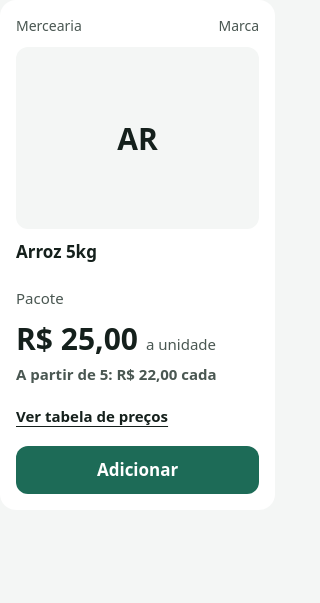
Test case: ProductGrid › tabela de preços do card abre fechada e alterna aria-expanded
Click the button with class "card-tiers-toggle" at x=138, y=416, box [16,394,259,438]
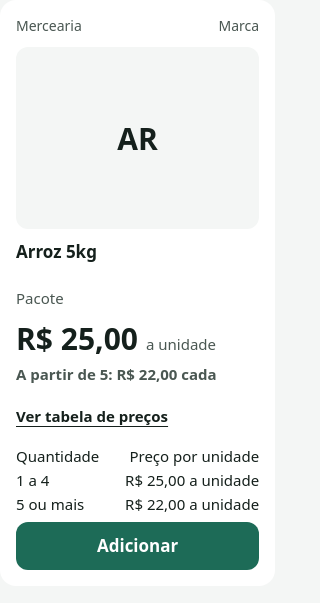
Expected: the list with class "card-tiers" shows "1 a 4", [16,470,49,490]
Expected: the list with class "card-tiers" shows "5 ou mais", [16,494,84,514]
Expected: the list with class "card-tiers" shows "R$", [125,470,185,490]
